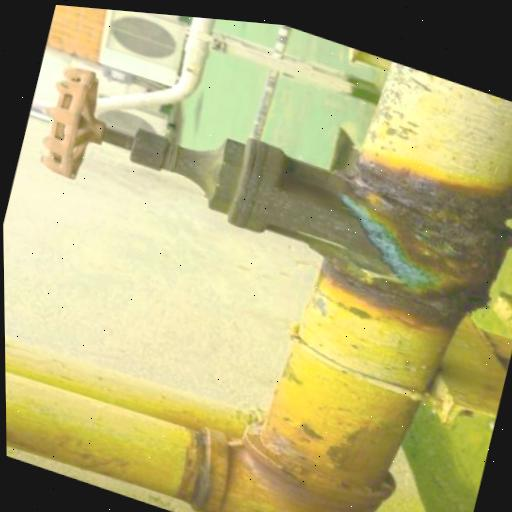corrosion: (313, 137, 512, 357)
